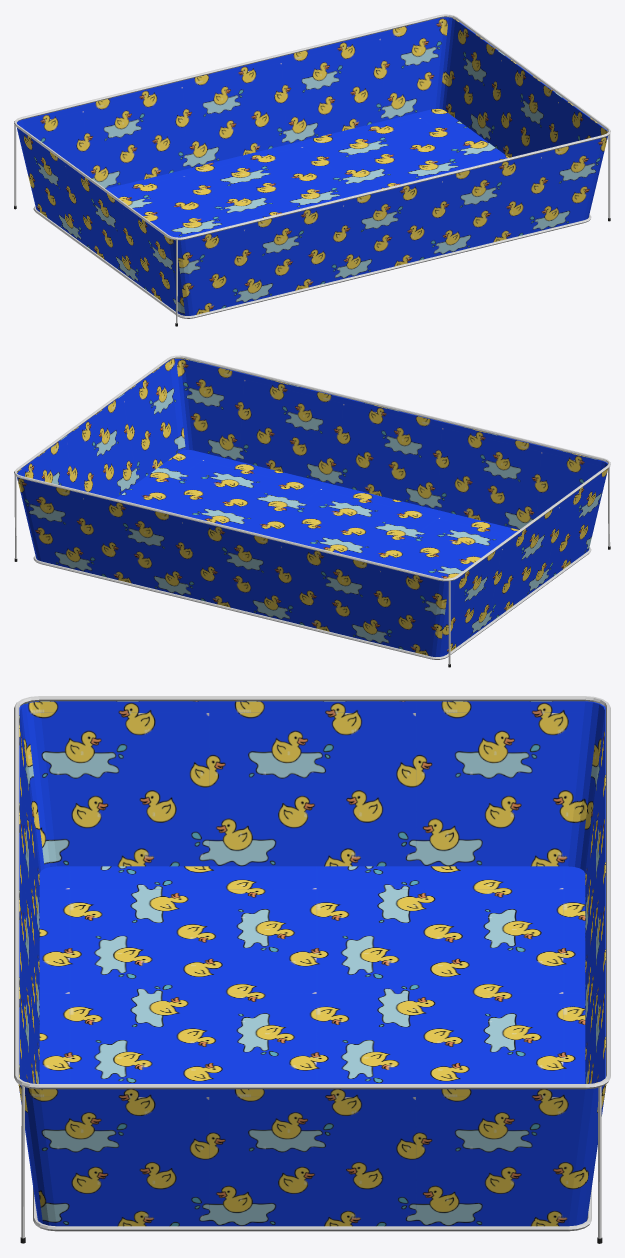
File: PlasrticPool_01.fbx
3 renders of one model, top to bottom at view 1: azimuth 30°, elevation 25°; view 2: azimuth 150°, elevation 25°; view 3: azimuth 270°, elevation 25°, orthographic. The views are drawn at different scales.
Visible parts, largest first — view 1: PlasrticPool_01; view 2: PlasrticPool_01; view 3: PlasrticPool_01.
Boxes of the visible parts, x1,y1,x2,y2 form: PlasrticPool_01: (14,14,610,326); PlasrticPool_01: (14,355,610,667); PlasrticPool_01: (14,696,610,1243).
Size of the model in its own units: 415 by 79.55 by 268.
